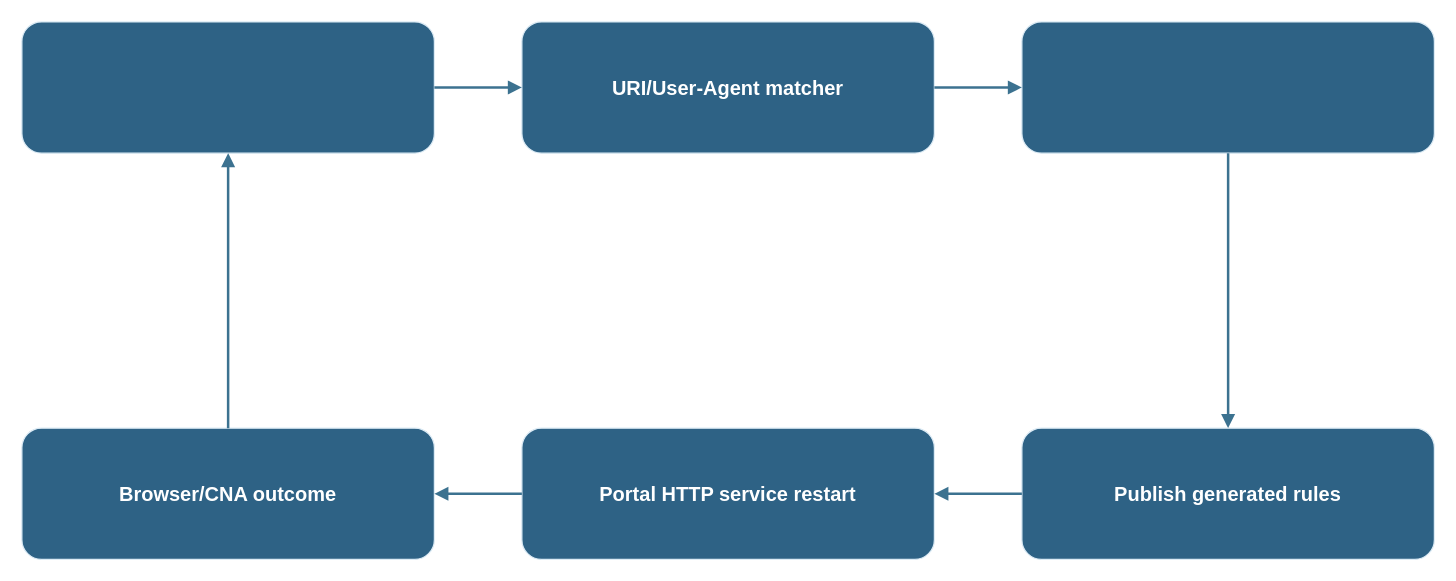
This 1456x581 diagram has some shape labels left out. Each missing label, with the centre of its shape:
Allow/Block/Forward/File action: (x=1227, y=87)
Captive portal HTTP request: (x=227, y=87)
